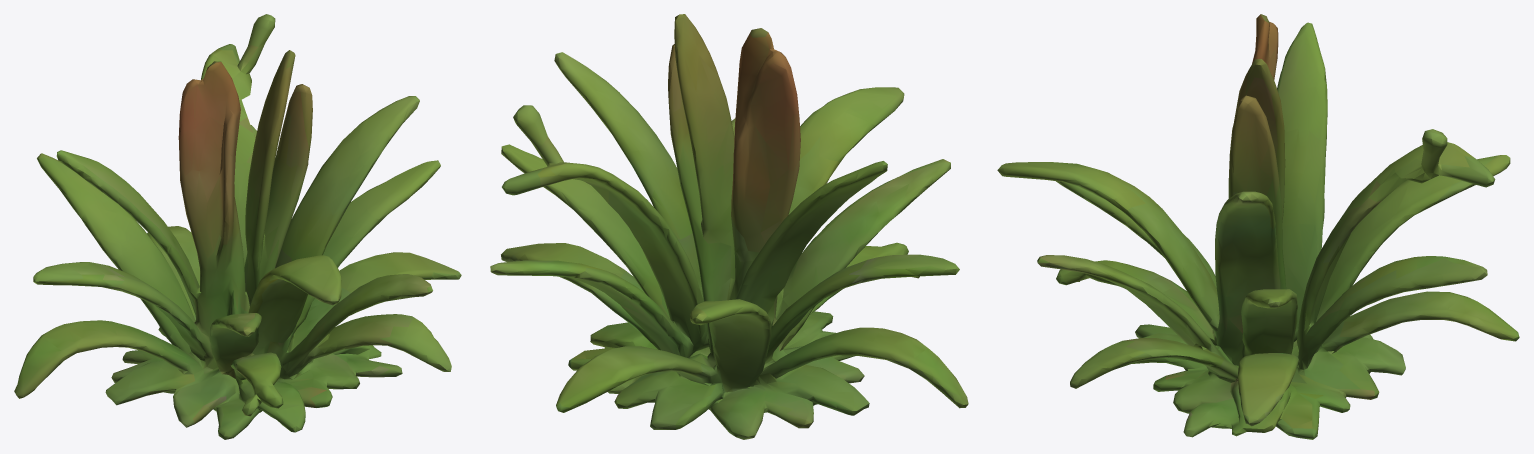
Rendered from canas.glb.
3 renders of one model, left to right at view 1: azimuth 30°, elevation 25°; view 2: azimuth 150°, elevation 25°; view 3: azimuth 270°, elevation 25°, orthographic. The views are drawn at different scales.
Parts seen in each view (by area): view 1: canas_malla; view 2: canas_malla; view 3: canas_malla.
Boxes of the visible parts, left/top/right/bottom form: canas_malla: left=14, top=14, right=461, bottom=439; canas_malla: left=490, top=14, right=968, bottom=439; canas_malla: left=997, top=14, right=1519, bottom=439.
Size of the model in its own units: 0.1688 by 0.1266 by 0.1655.
1 material, 1 textured.
